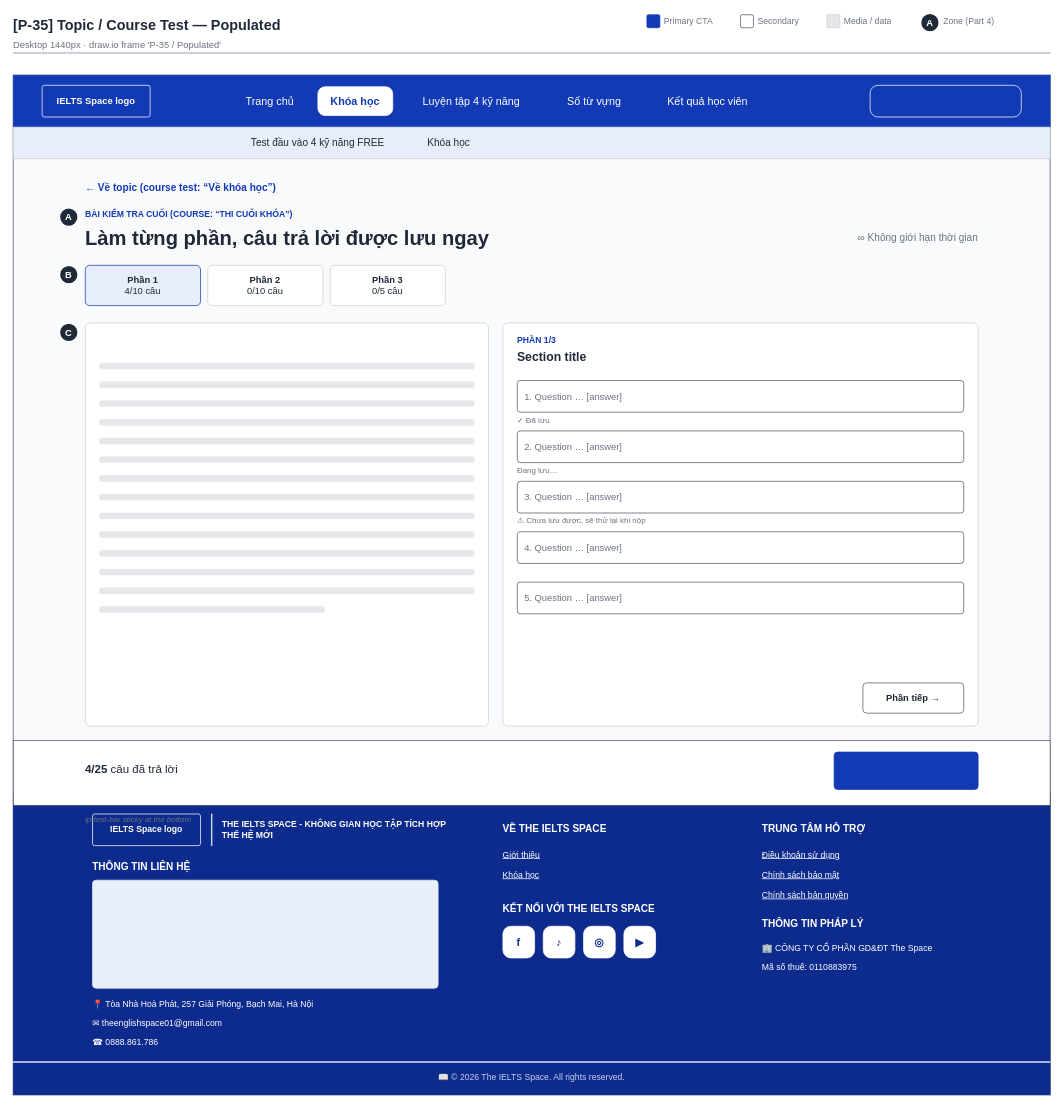
Some shapes in this 1063 by 1107 pixel diagram are drawn without their labels. Here are the shapes that lost their labels. From the top down, the box of each, then its label:
(869, 85, 1021, 117): ◯ Học viên · 30 Points ▾
(85, 322, 489, 726): Section AudioBlock / PassageBlock
(833, 751, 978, 789): ➤ Nộp bài
(92, 879, 438, 988): 📍 The IELTS Space Mở trong Maps ↗
